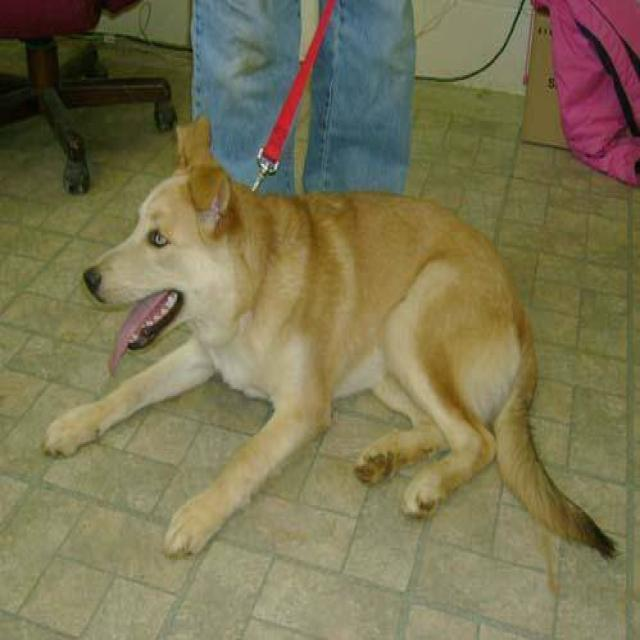dogs: (41, 113, 614, 606)
